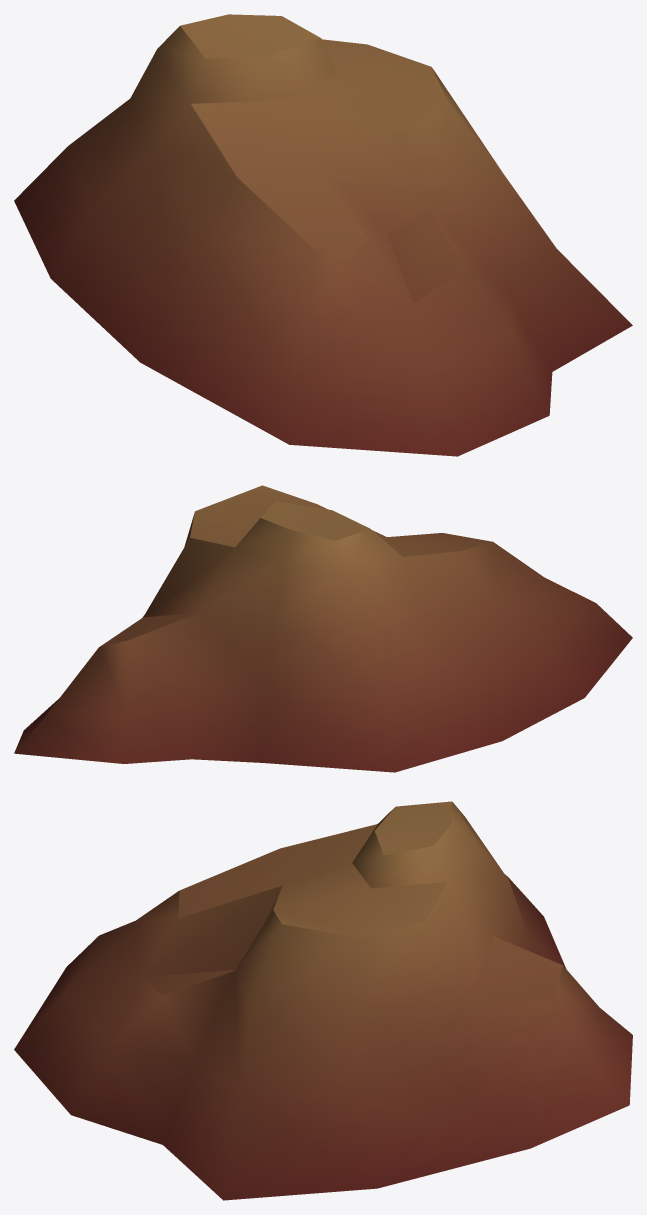
The model's file is Mountain_big.005.fbx.
The picture shows the model from 3 angles, top to bottom: view 1: azimuth 30°, elevation 25°; view 2: azimuth 150°, elevation 25°; view 3: azimuth 270°, elevation 25°; orthographic projection. The views are drawn at different scales.
Visible parts, largest first — view 1: Mountain_big.005; view 2: Mountain_big.005; view 3: Mountain_big.005.
Part boxes in pixels (bbox=[...]): Mountain_big.005: bbox=[14, 14, 632, 456]; Mountain_big.005: bbox=[14, 485, 632, 772]; Mountain_big.005: bbox=[14, 801, 632, 1200].
Size of the model in its own units: 130 by 74.01 by 162.
